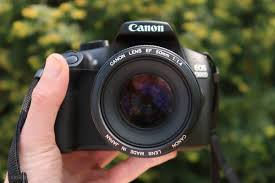camera: (56, 41, 211, 156)
